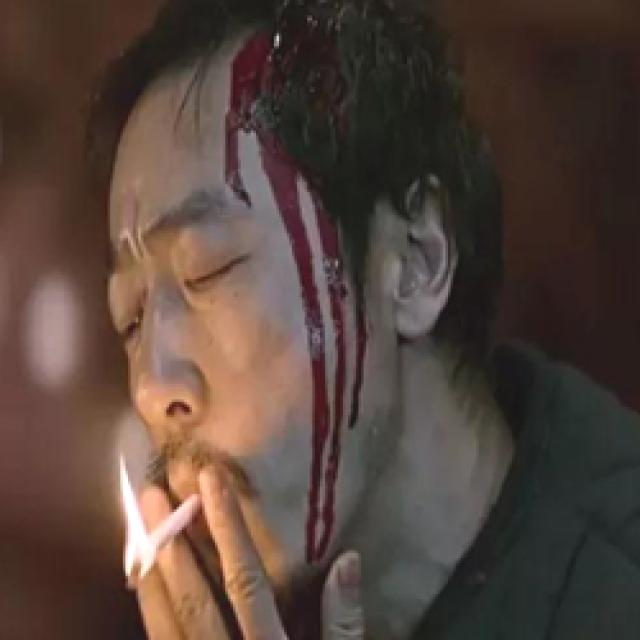Smooking: (86, 472, 232, 584)
